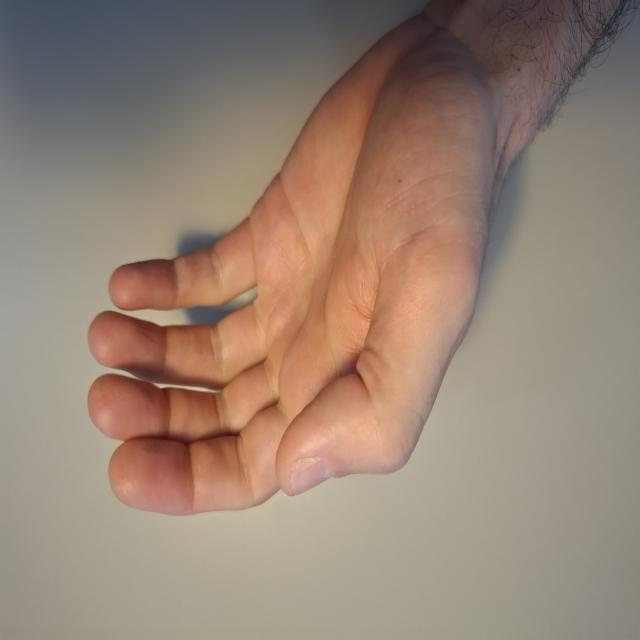glove_off: (83, 9, 530, 520)
